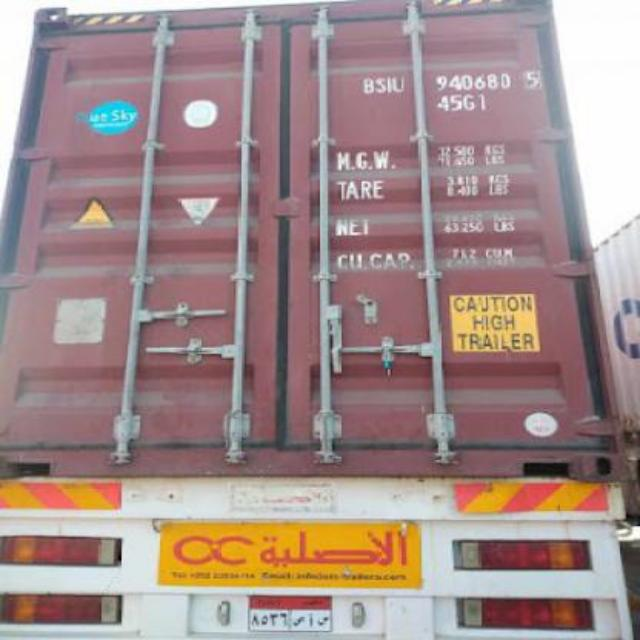0: (498, 70, 512, 90), (462, 72, 474, 92)
4: (448, 72, 460, 92)
5: (526, 69, 540, 87)
6: (472, 74, 486, 90)
8: (486, 72, 502, 90)
9: (436, 74, 448, 88)
B: (366, 75, 374, 95)
I: (386, 75, 392, 93)
S: (374, 76, 386, 96)
U: (392, 75, 408, 93)
